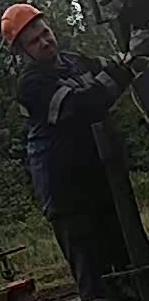gloves: (118, 19, 149, 74)
helmet: (0, 3, 43, 48)
vest: (17, 50, 131, 218)
